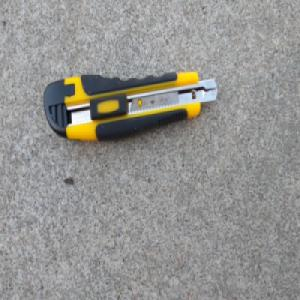Cutter: (42, 69, 218, 144)
